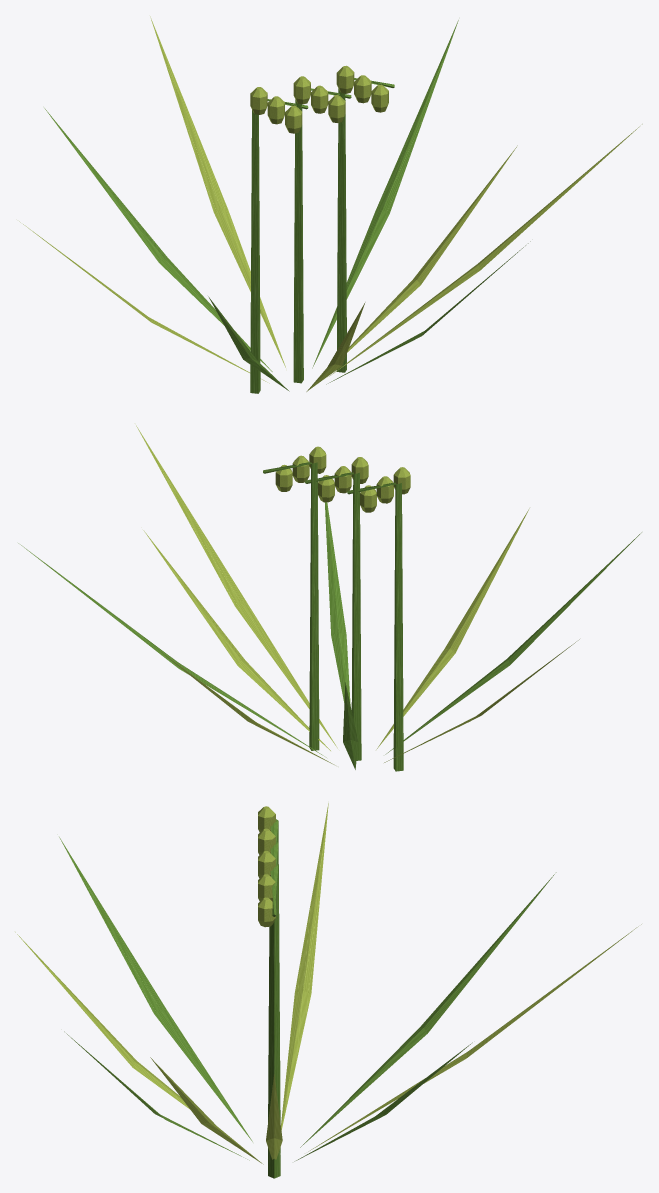
The model's file is crop-rice-flowering.glb.
3 views of the same model, one above another, from view 1: azimuth 30°, elevation 25°; view 2: azimuth 150°, elevation 25°; view 3: azimuth 270°, elevation 25° (orthographic). The views are drawn at different scales.
Visible parts, largest first — view 1: crop-rice-flowering; view 2: crop-rice-flowering; view 3: crop-rice-flowering.
Part boxes in pixels (x1,y1,x2,y2): crop-rice-flowering: [19, 16, 642, 393]; crop-rice-flowering: [18, 425, 641, 771]; crop-rice-flowering: [15, 803, 641, 1178].
Bounding box in the file's own units: 1.26 × 0.677 × 1.2.
Materials: 1 (1 with a texture image).
